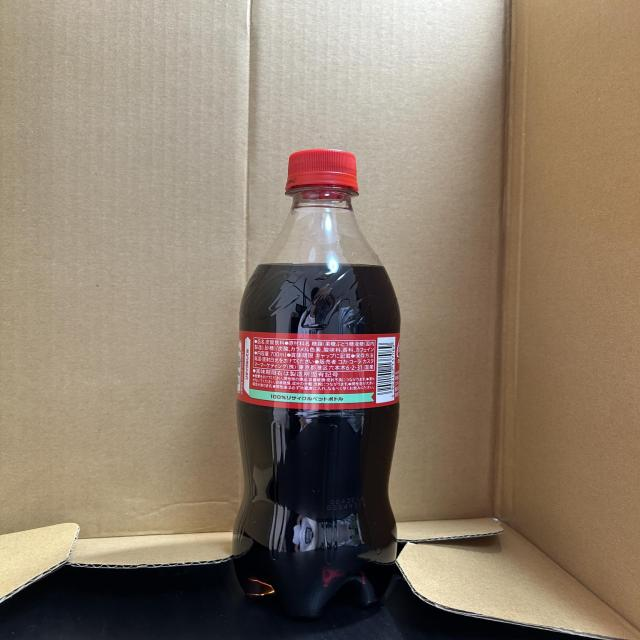high: (233, 150, 400, 618)
